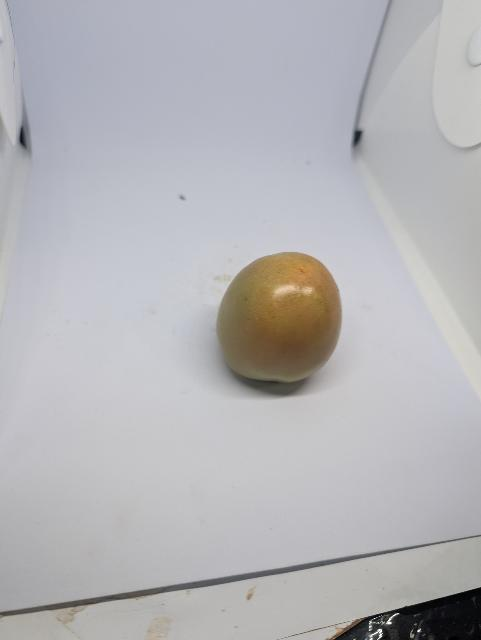breaker: (217, 252, 342, 382)
